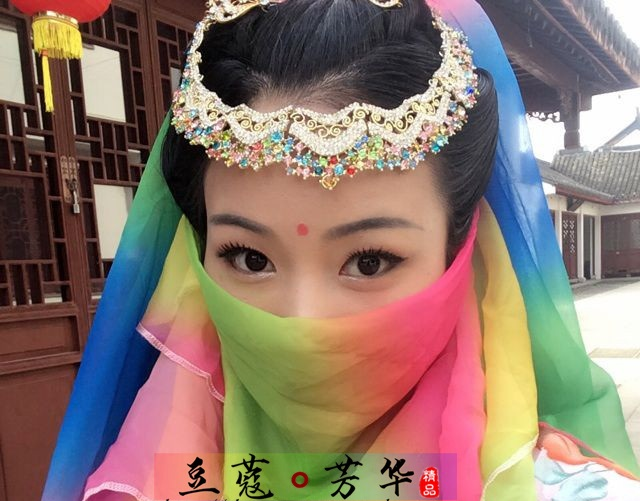face_mask: (204, 107, 449, 433)
